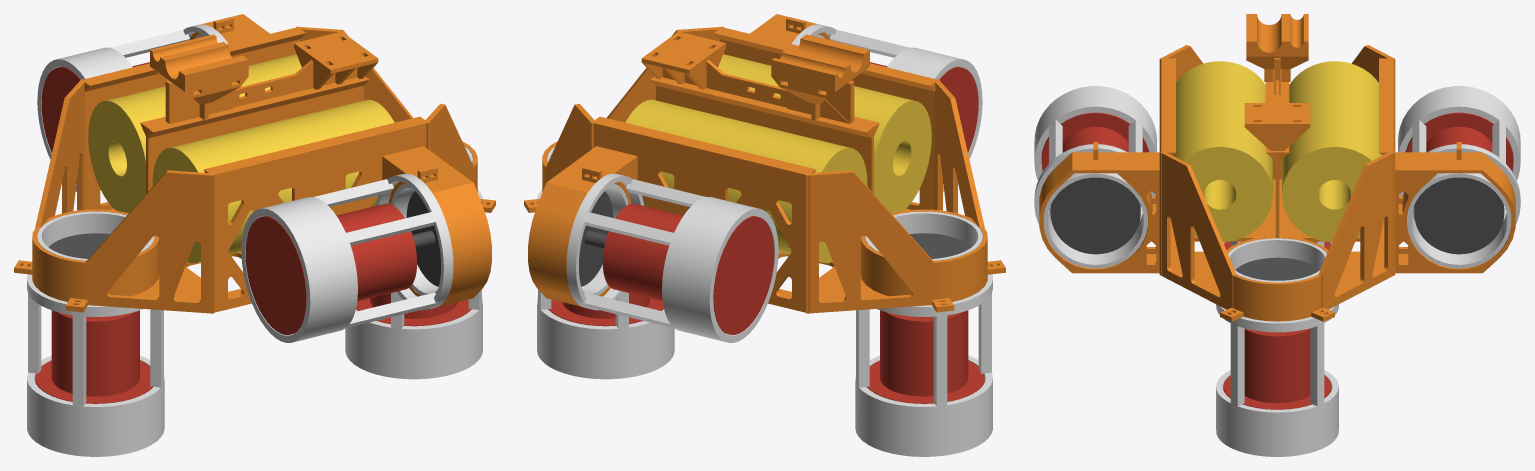
The model's file is rov_v17.glb.
3 renders of one model, left to right at view 1: azimuth 30°, elevation 25°; view 2: azimuth 150°, elevation 25°; view 3: azimuth 270°, elevation 25°, orthographic. The views are drawn at different scales.
Visible parts, largest first — view 1: frame, pod_right/casing, pod_rear/casing, pod_right/pump_motor, noodle_right, pod_front/casing, noodle_left, pod_rear/pump_motor, pod_left/casing, pod_left/pump_motor, pod_right/prop, pod_front/pump_motor (+1 smaller); view 2: frame, pod_left/casing, pod_rear/casing, pod_left/pump_motor, noodle_left, pod_front/casing, noodle_right, pod_rear/pump_motor, pod_right/casing, pod_right/pump_motor, pod_left/prop, pod_front/pump_motor (+1 smaller); view 3: frame, noodle_left, noodle_right, pod_front/casing, pod_left/casing, pod_right/casing, pod_left/prop, pod_right/prop, pod_front/pump_motor, pod_left/pump_motor, pod_right/pump_motor, pod_front/prop.
Part boxes in pixels (x1,y1,x2,y2): frame: (14, 14, 495, 313); pod_right/casing: (241, 173, 453, 342); pod_rear/casing: (27, 211, 164, 456); pod_right/pump_motor: (245, 203, 416, 334); noodle_right: (152, 99, 394, 263); pod_front/casing: (345, 146, 482, 379); noodle_left: (88, 54, 301, 213); pod_rear/pump_motor: (35, 310, 152, 403); pod_left/casing: (37, 24, 228, 191); pod_left/pump_motor: (41, 62, 149, 184); pod_right/prop: (406, 191, 440, 286); pod_front/pump_motor: (356, 293, 471, 326); frame: (524, 14, 1005, 313); pod_left/casing: (566, 173, 778, 342); pod_rear/casing: (855, 211, 992, 456); pod_left/pump_motor: (603, 203, 774, 334); noodle_left: (625, 99, 867, 263); pod_front/casing: (537, 146, 674, 379); noodle_right: (718, 54, 931, 213); pod_rear/pump_motor: (867, 310, 984, 403); pod_right/casing: (791, 24, 982, 191); pod_right/pump_motor: (870, 62, 978, 184); pod_left/prop: (579, 191, 613, 286); pod_front/pump_motor: (548, 293, 663, 326); frame: (1039, 14, 1515, 321); noodle_left: (1282, 61, 1381, 242); noodle_right: (1173, 61, 1272, 242); pod_front/casing: (1216, 238, 1338, 456); pod_left/casing: (1398, 86, 1520, 268); pod_right/casing: (1034, 86, 1156, 268); pod_left/prop: (1414, 177, 1504, 254); pod_right/prop: (1050, 177, 1140, 254); pod_front/pump_motor: (1223, 328, 1331, 409); pod_left/pump_motor: (1405, 112, 1513, 171); pod_right/pump_motor: (1041, 112, 1149, 171); pod_front/prop: (1235, 257, 1319, 280).
Bounding box in the file's own units: 0.275 × 0.2088 × 0.297.
